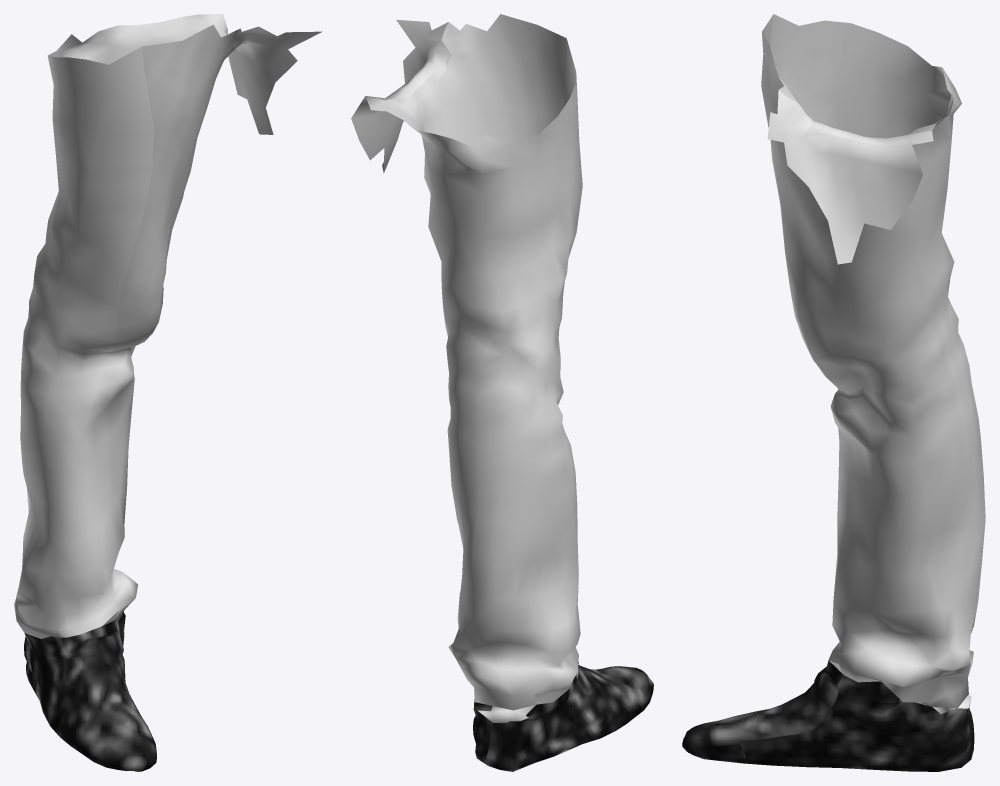
File: Pierna_Derecha.obj
The picture shows the model from 3 angles, left to right: view 1: azimuth 30°, elevation 25°; view 2: azimuth 150°, elevation 25°; view 3: azimuth 270°, elevation 25°; orthographic projection. The views are drawn at different scales.
Parts seen in each view (by area): view 1: Pierna_Derecha; view 2: Pierna_Derecha; view 3: Pierna_Derecha.
Part boxes in pixels (x1,y1,x2,y2): Pierna_Derecha: (14,14,322,771); Pierna_Derecha: (351,14,653,771); Pierna_Derecha: (682,14,985,771).
Bounding box in the file's own units: 10.8 × 29.38 × 10.52.
2 materials, 2 textured.
